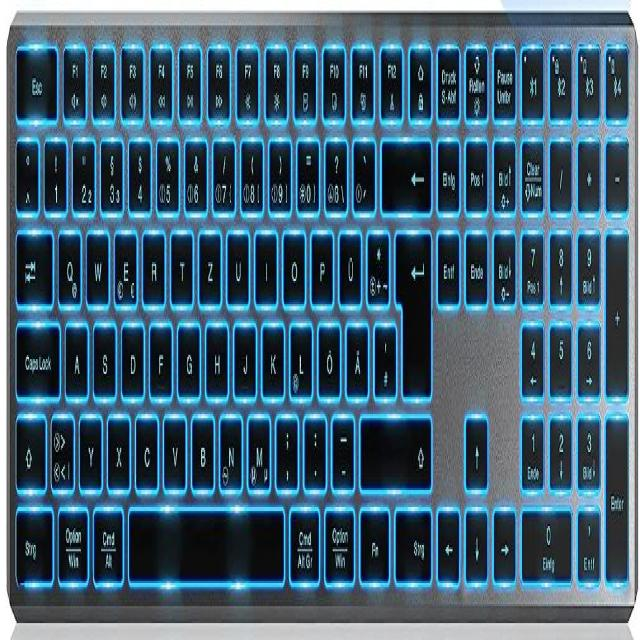0: (295, 131, 318, 209)
1: (42, 129, 65, 207)
2: (70, 131, 93, 207)
3: (98, 131, 121, 209)
4: (127, 131, 150, 209)
5: (154, 131, 178, 209)
6: (182, 131, 206, 209)
7: (211, 131, 234, 209)
8: (238, 131, 262, 209)
9: (266, 129, 290, 209)
a: (62, 315, 86, 393)
accent: (350, 129, 374, 207)
ae: (343, 312, 367, 393)
alt-left: (90, 498, 123, 579)
altgr-right: (286, 498, 319, 579)
b: (189, 406, 213, 484)
c: (132, 405, 157, 486)
caret: (14, 131, 37, 207)
comma: (273, 403, 297, 484)
d: (118, 312, 142, 393)
del: (379, 131, 430, 207)
e: (111, 222, 136, 302)
enter: (392, 222, 430, 395)
f: (147, 312, 170, 393)
g: (175, 315, 198, 393)
h: (202, 312, 227, 393)
hash: (371, 310, 395, 391)
i: (252, 220, 275, 300)
j: (231, 313, 254, 391)
k: (258, 312, 283, 393)
keyboard: (4, 2, 637, 625)
l: (287, 312, 311, 393)
less: (48, 405, 73, 486)
m: (244, 405, 269, 486)
minus: (329, 406, 353, 484)
n: (217, 405, 241, 486)
o: (280, 222, 304, 300)
oe: (315, 312, 339, 393)
p: (308, 222, 331, 300)
plus: (364, 220, 388, 300)
point: (301, 406, 325, 484)
q: (55, 222, 80, 302)
r: (140, 222, 163, 300)
s: (90, 315, 115, 393)
shift-left: (13, 410, 44, 486)
shift-lock: (13, 312, 59, 393)
shift-right: (358, 406, 431, 484)
space: (124, 498, 284, 579)
ss: (323, 131, 346, 209)
strg-left: (11, 500, 52, 581)
strg-right: (393, 501, 432, 579)
t: (168, 220, 191, 300)
tab: (13, 224, 51, 302)
u: (224, 222, 248, 300)
ue: (335, 220, 360, 300)
v: (161, 406, 185, 484)
w: (84, 220, 107, 300)
x: (104, 405, 129, 486)
y: (77, 405, 100, 486)
z: (196, 222, 219, 300)
